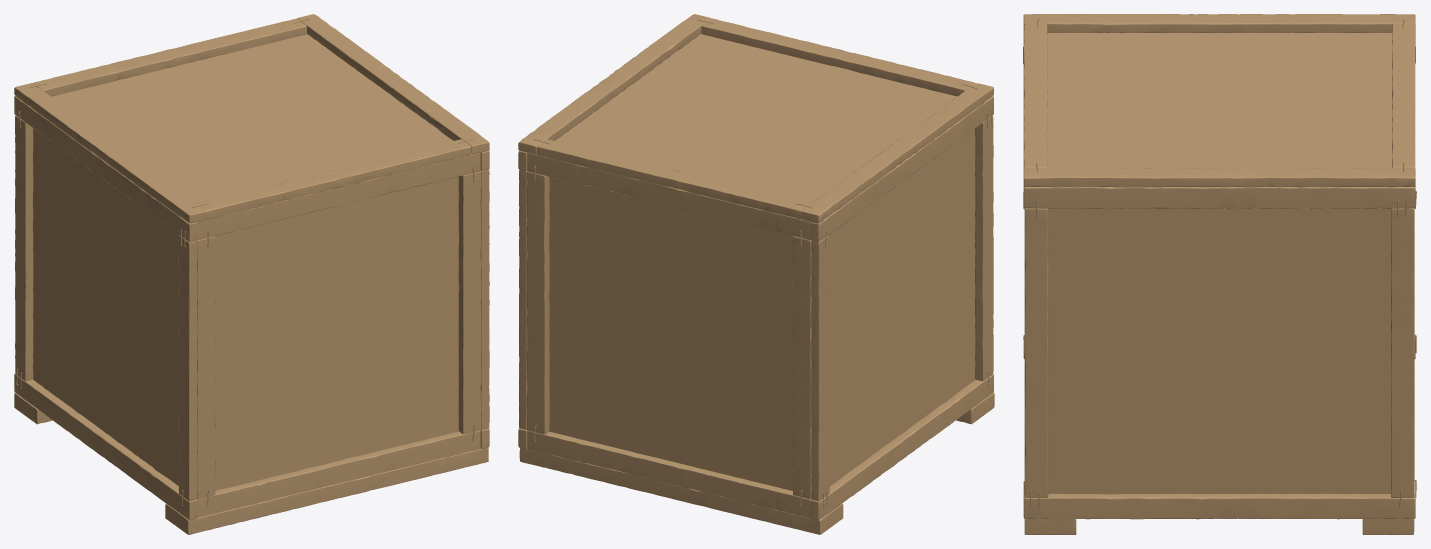
File: crate_plywood_b02.glb
The picture shows the model from 3 angles, left to right: view 1: azimuth 30°, elevation 25°; view 2: azimuth 150°, elevation 25°; view 3: azimuth 270°, elevation 25°; orthographic projection. The views are drawn at different scales.
Size of the model in its own units: 1 by 1.02 by 1.01.
